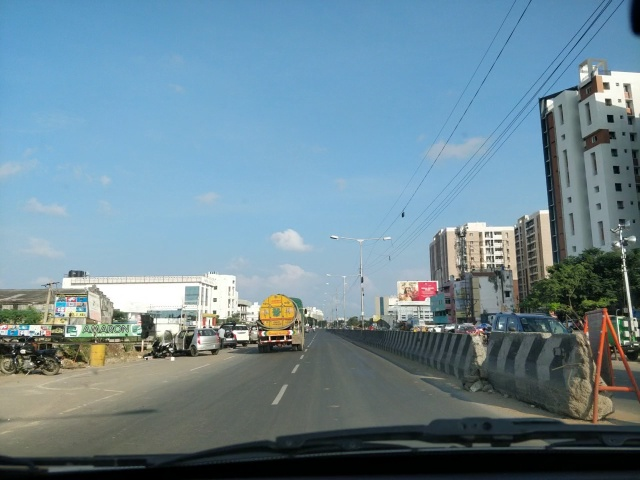car: (492, 309, 577, 368), (486, 309, 574, 334), (177, 329, 220, 354), (222, 322, 239, 349), (234, 324, 252, 343)
motorbike: (0, 338, 63, 376), (147, 340, 178, 356)
truck: (261, 297, 302, 352)
